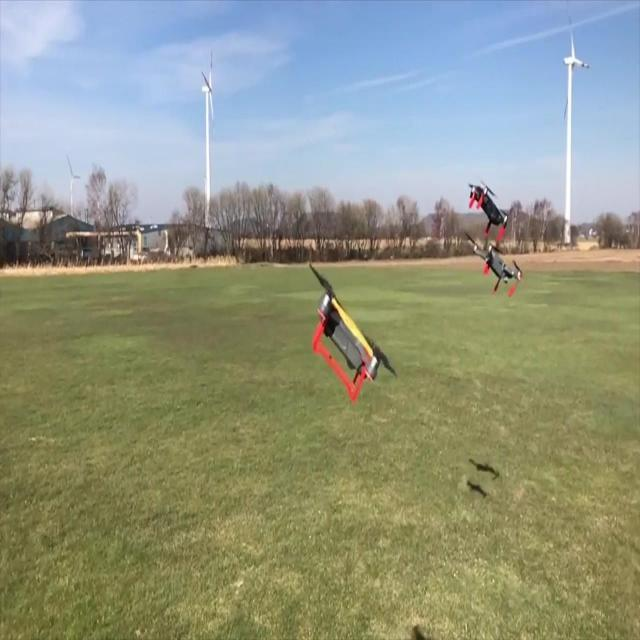UAV: (308, 262, 398, 402), (464, 231, 522, 298), (468, 180, 508, 242)
